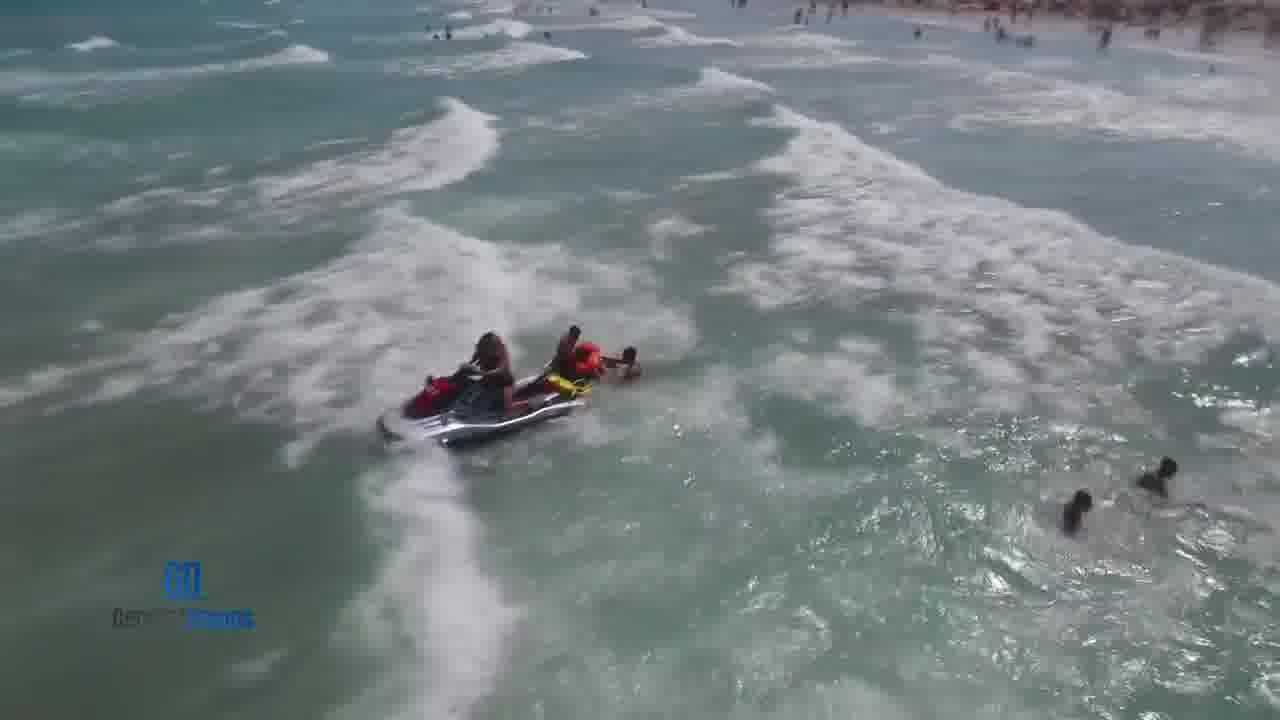human: (546, 321, 594, 400), (1125, 450, 1193, 502), (607, 333, 669, 382), (1049, 485, 1101, 531)
